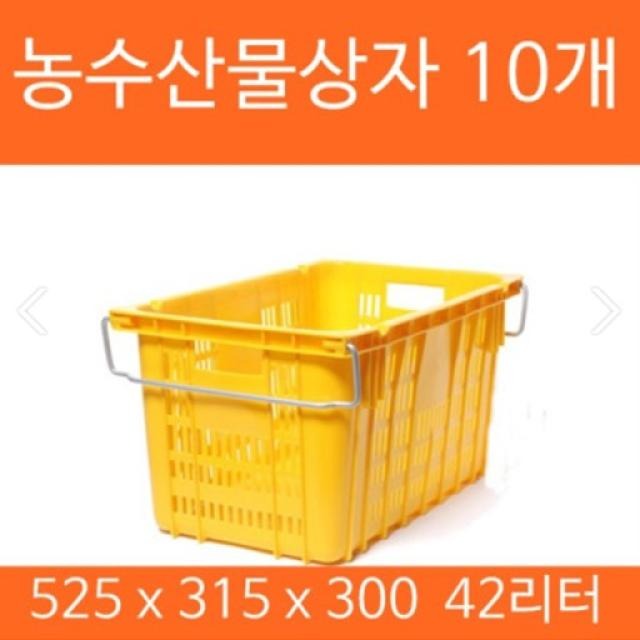basket: (107, 223, 573, 600)
